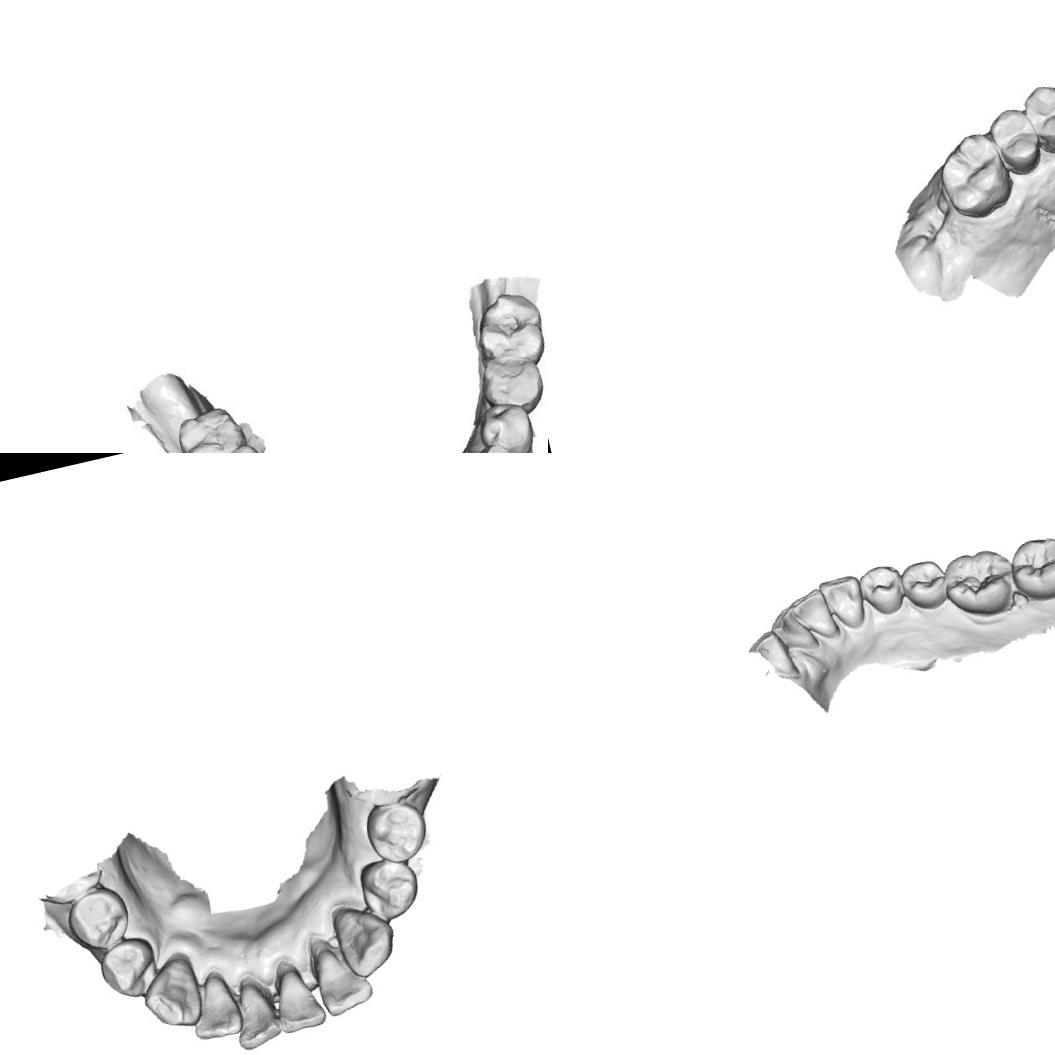canine: (328, 898, 401, 982), (139, 954, 208, 1034), (814, 572, 871, 639)
incisor: (310, 938, 378, 1020), (182, 968, 244, 1044), (226, 976, 286, 1052), (269, 963, 327, 1036), (742, 624, 802, 689), (785, 585, 842, 648), (767, 601, 822, 659)
molar: (932, 126, 1019, 224), (938, 540, 1022, 624), (469, 285, 548, 370), (470, 348, 548, 422), (170, 400, 255, 453), (1005, 528, 1055, 607)
premolar: (61, 884, 136, 958), (362, 793, 433, 867), (358, 853, 426, 923), (986, 102, 1044, 179), (94, 936, 161, 1002), (477, 396, 542, 453), (855, 559, 915, 620), (895, 554, 952, 616), (1020, 78, 1055, 159)
